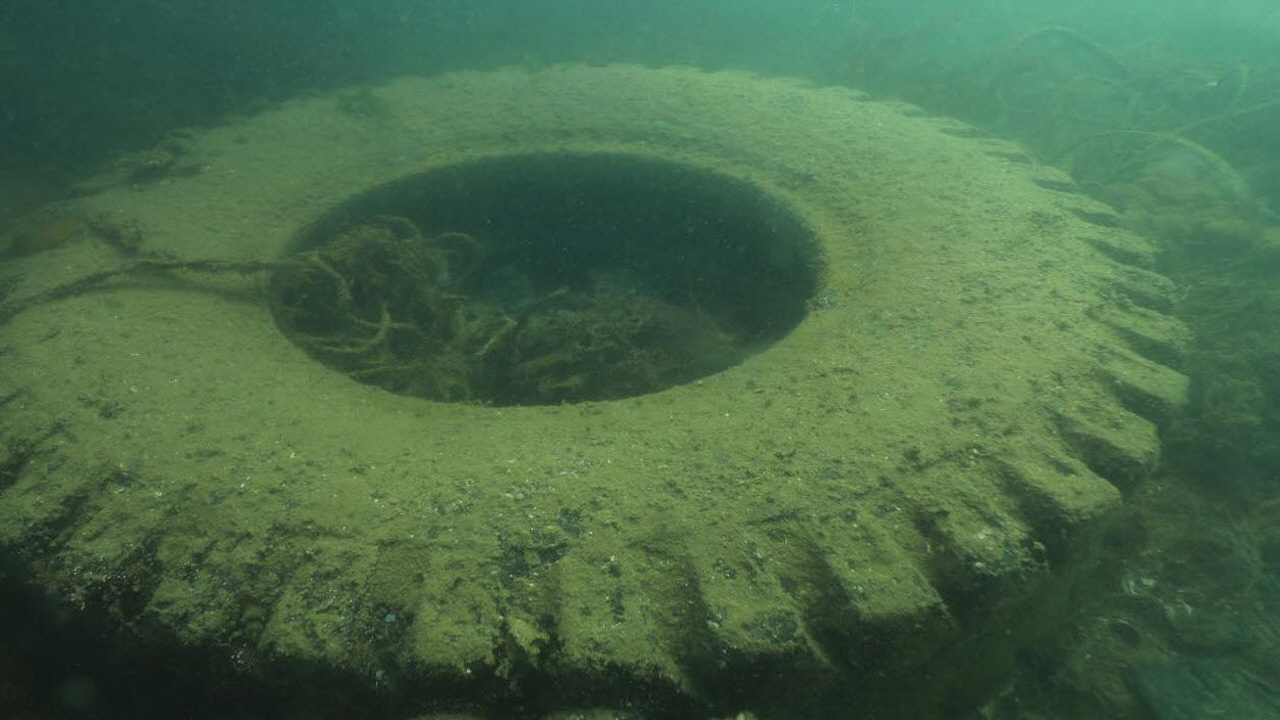bundle of ropes: (0, 175, 489, 395)
tire: (0, 57, 1191, 720)
